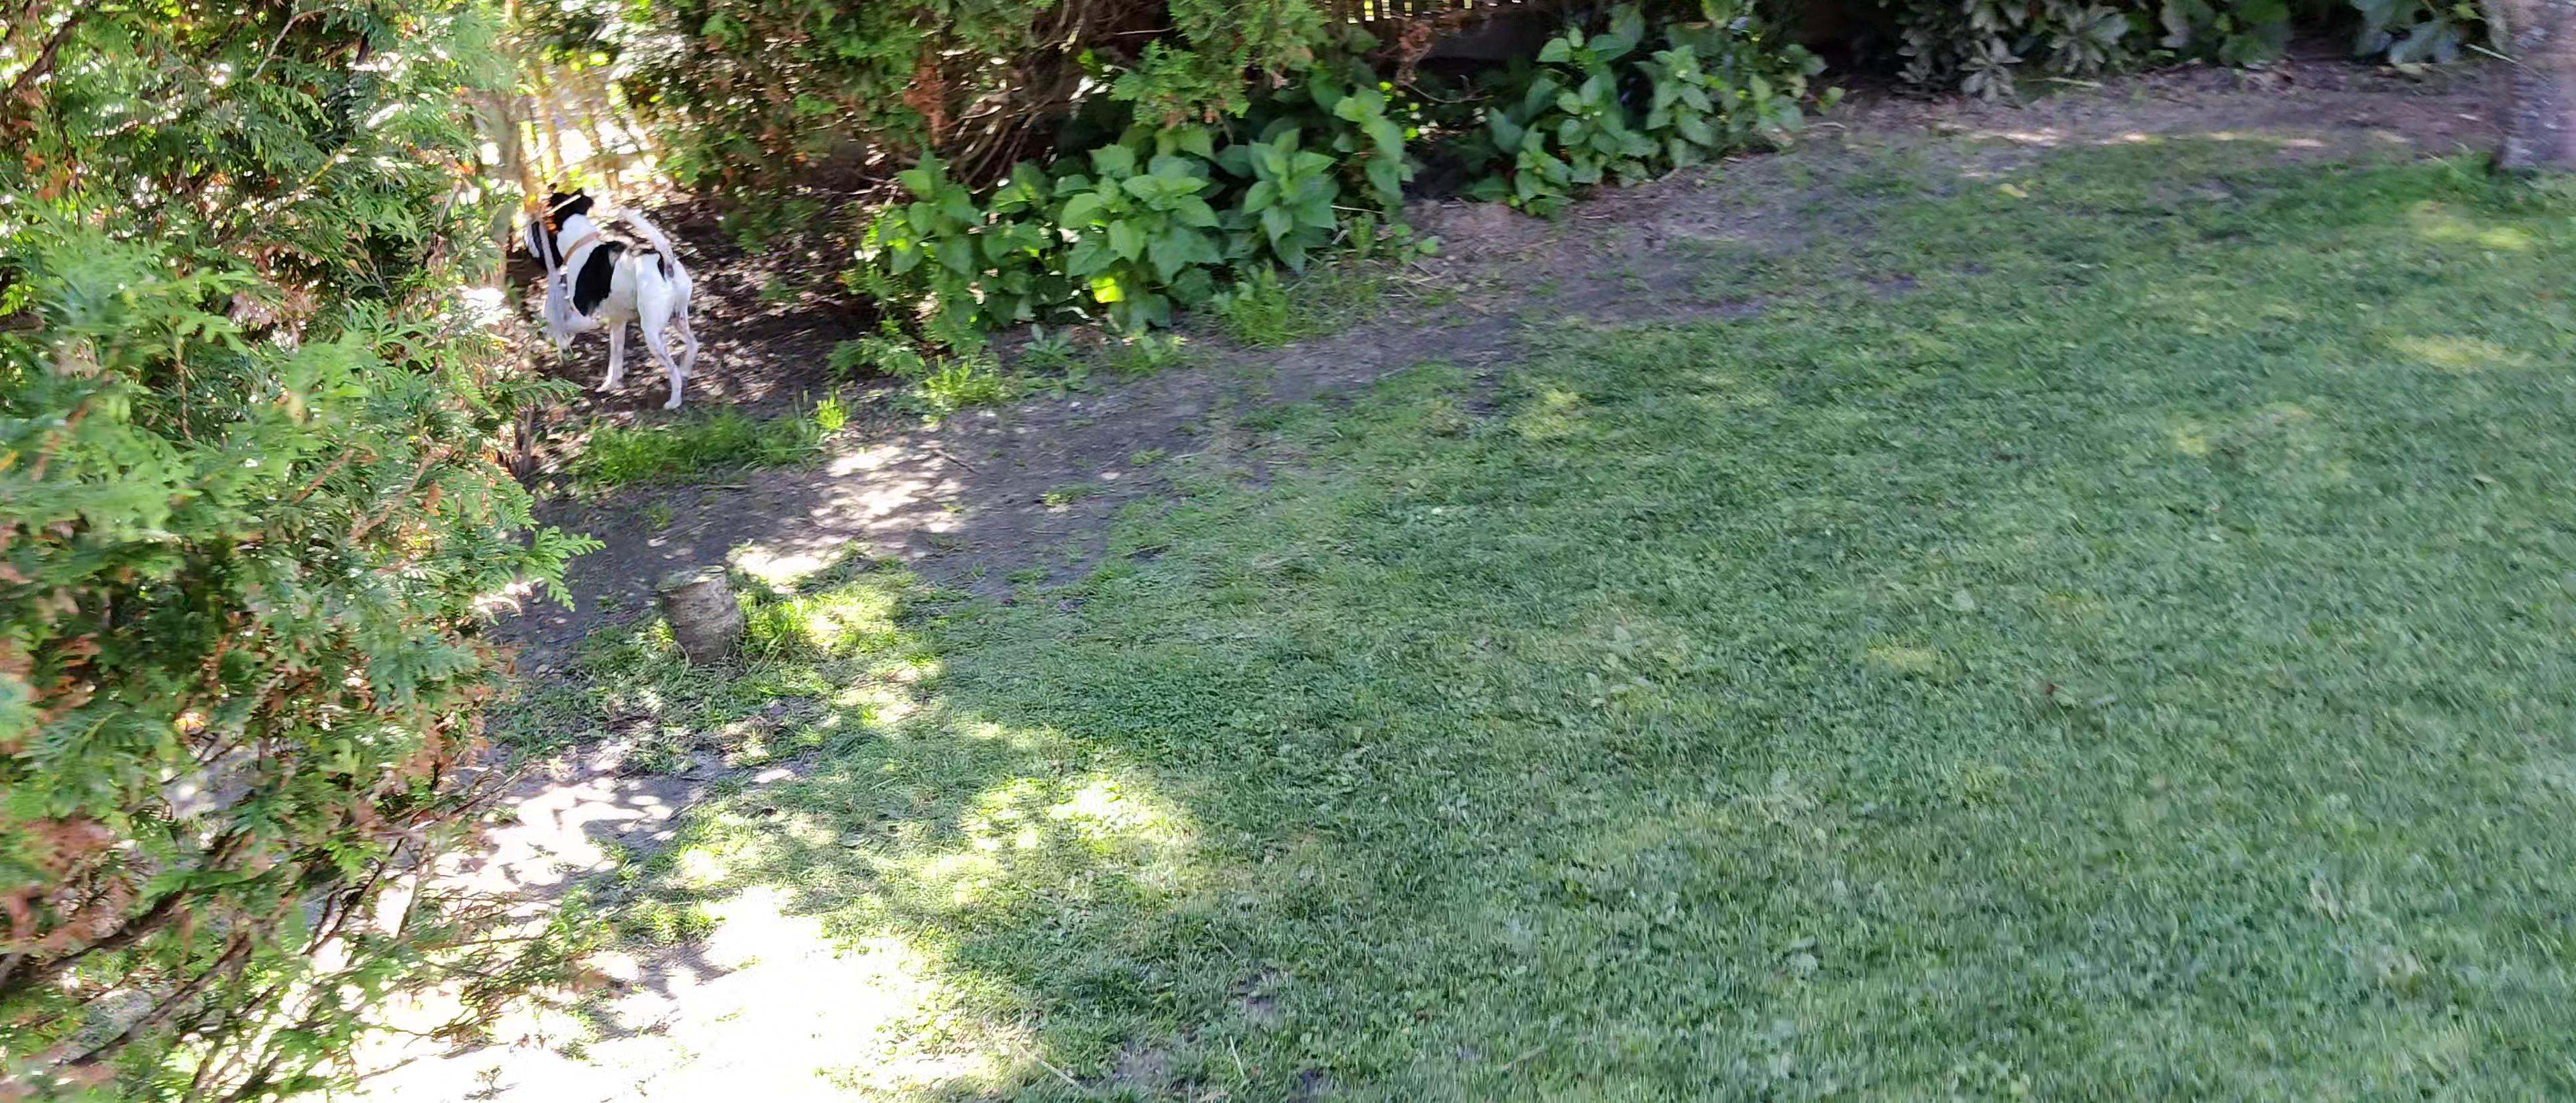Dog: (534, 178, 701, 414)
